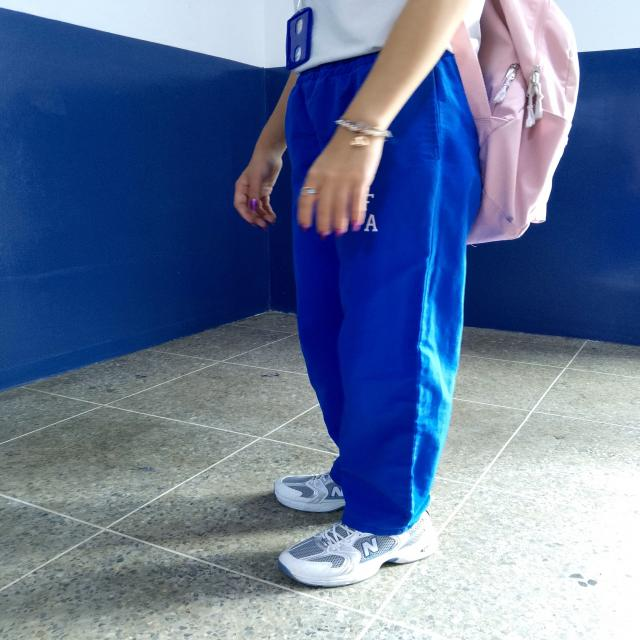carnet: (287, 6, 314, 72)
uniforme_superior: (284, 48, 484, 538)
